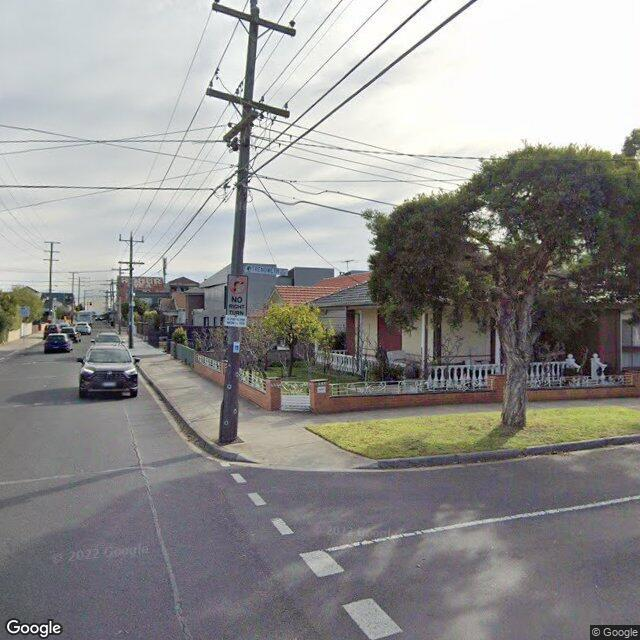HV-transmission: (211, 0, 295, 35)
crossarm: (211, 0, 297, 37), (206, 82, 290, 118), (223, 108, 260, 146), (118, 232, 144, 245), (118, 258, 146, 266), (43, 240, 63, 246), (41, 257, 60, 263), (42, 248, 61, 254)
timber-pole: (217, 0, 261, 442), (127, 231, 134, 348), (46, 241, 54, 320)
